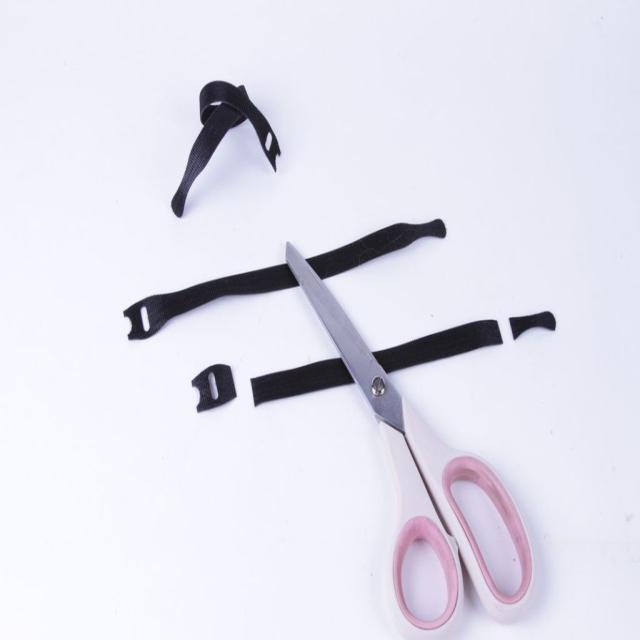scissors: (276, 234, 545, 634)
